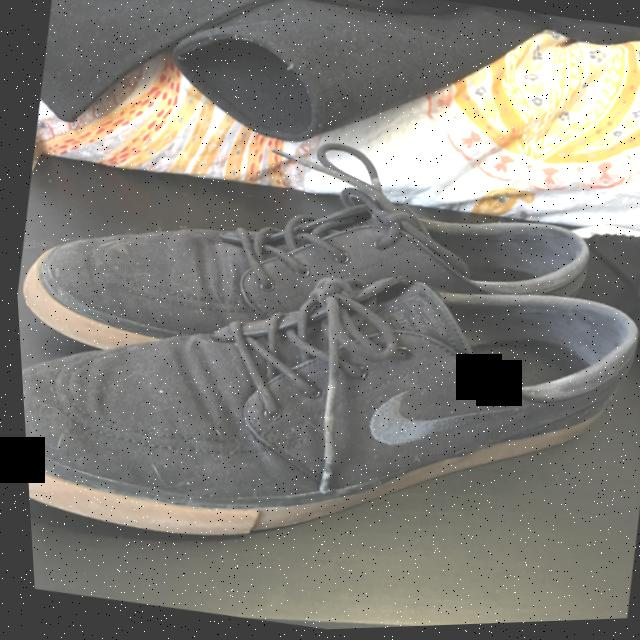shoes: (10, 194, 640, 626), (4, 78, 640, 448)
